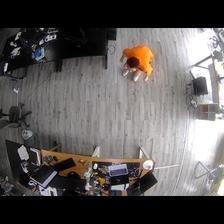fall: (119, 44, 157, 83)
